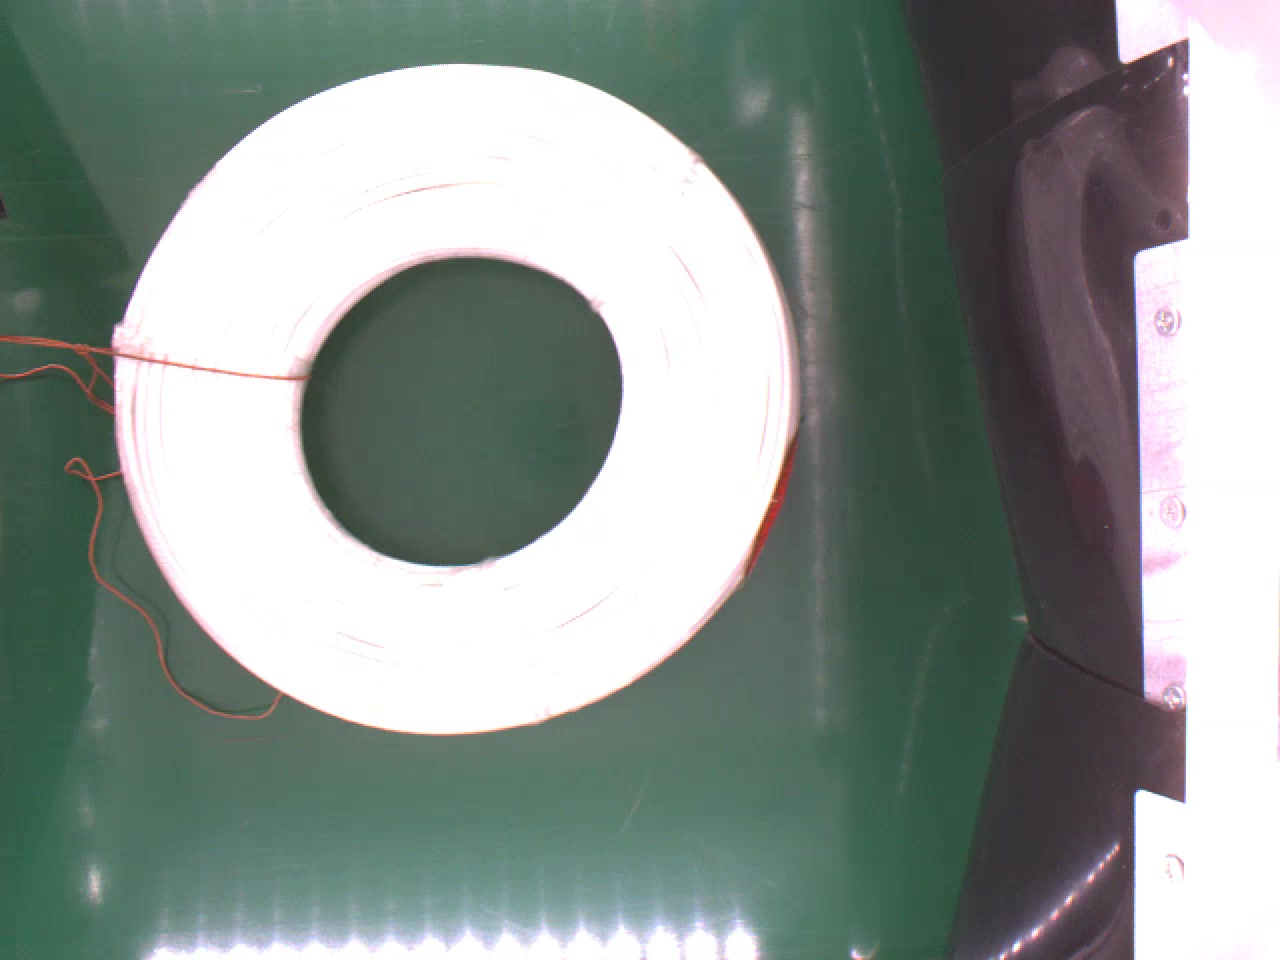white: (110, 61, 820, 732)
